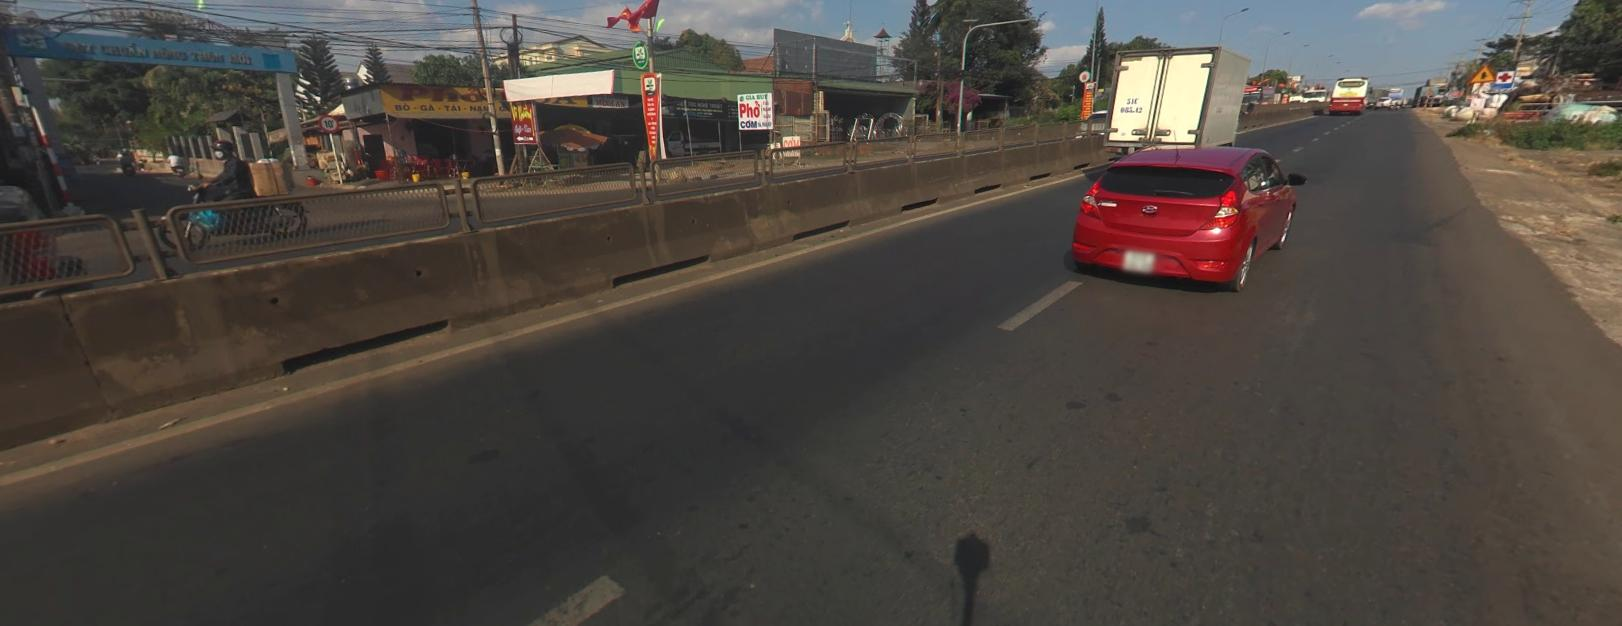Nguy hiem: (1470, 63, 1495, 79)
